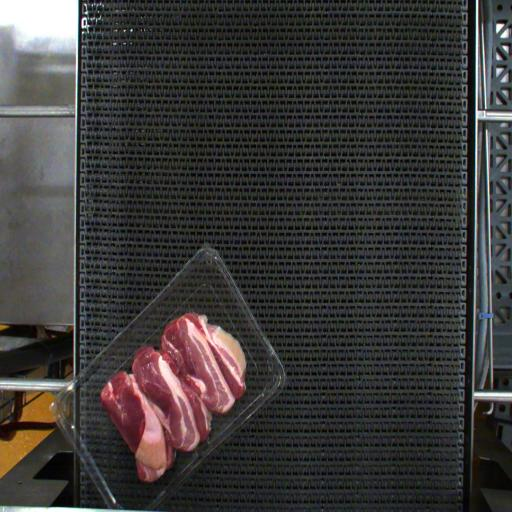twisted-meat: (117, 382, 164, 488)
